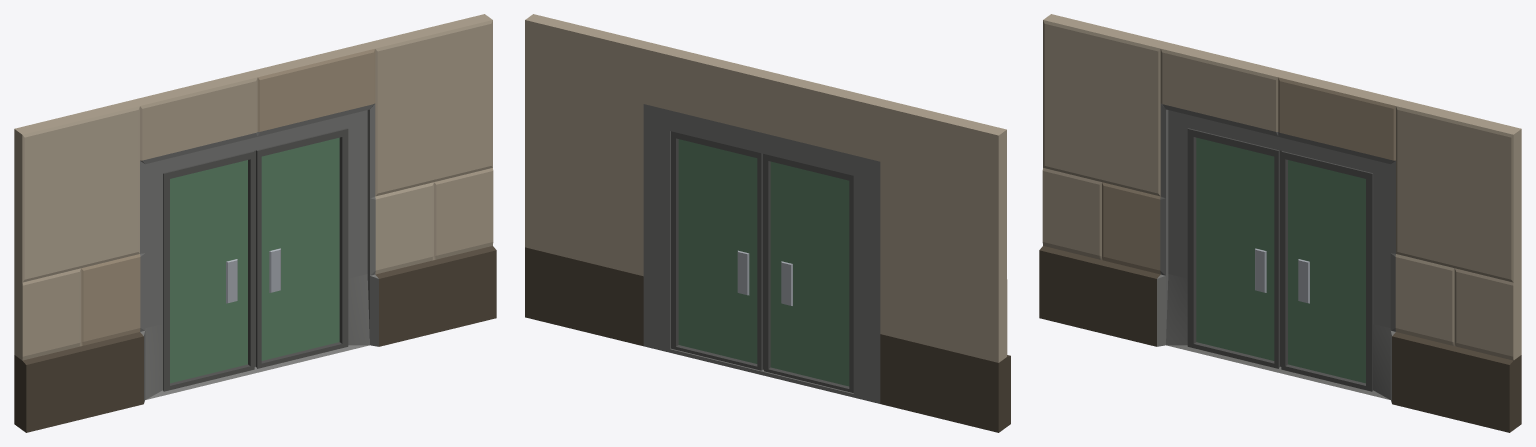
File: door.fbx
The picture shows the model from 3 angles, left to right: view 1: azimuth 30°, elevation 25°; view 2: azimuth 150°, elevation 25°; view 3: azimuth 330°, elevation 25°; orthographic projection.
Parts seen in each view (by area): view 1: Wall_DoubleDoor, Door_002, Door_01; view 2: Wall_DoubleDoor, Door_002, Door_01; view 3: Wall_DoubleDoor, Door_01, Door_002.
Boxes of the visible parts, x1,y1,x2,y2 form: Wall_DoubleDoor: (14,14,496,432); Door_002: (256,128,348,368); Door_01: (163,150,255,391); Wall_DoubleDoor: (525,14,1010,432); Door_002: (671,131,763,370); Door_01: (764,154,853,392); Wall_DoubleDoor: (1039,14,1521,432); Door_01: (1187,128,1281,368); Door_002: (1281,151,1373,391).
Size of the model in its own units: 378 by 227 by 16.67.
1 material, 1 textured.
